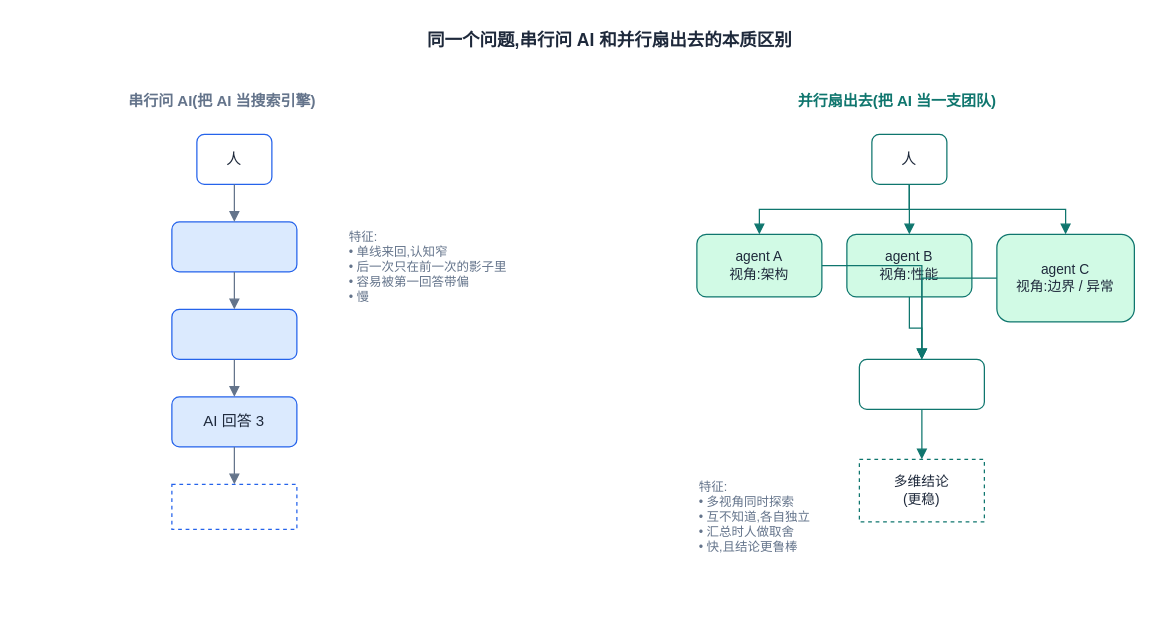
The diagram is 1156 pixels wide and 618 high, and some of its shapes have lost their labels. Each missing label, with the centre of its shape:
AI 回答 1: [234,246]
AI 回答 2: [234,333]
单条结论: [234,506]
汇总 / 取舍: [921,383]
